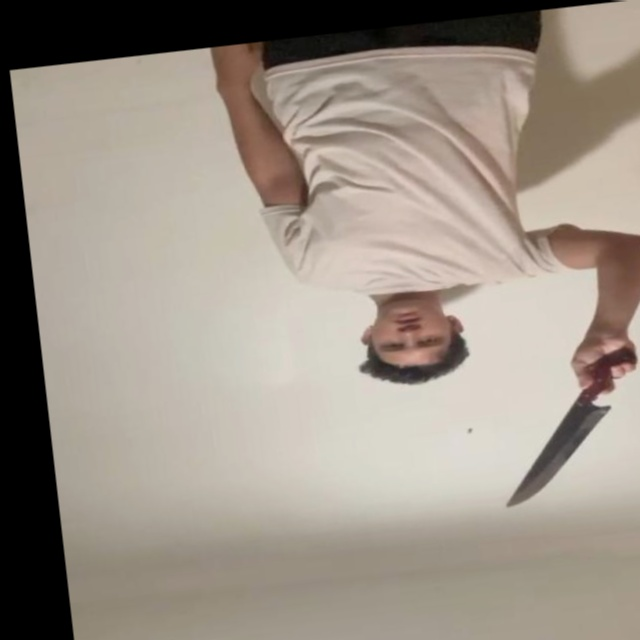Sharp-Object: (493, 397, 621, 507)
